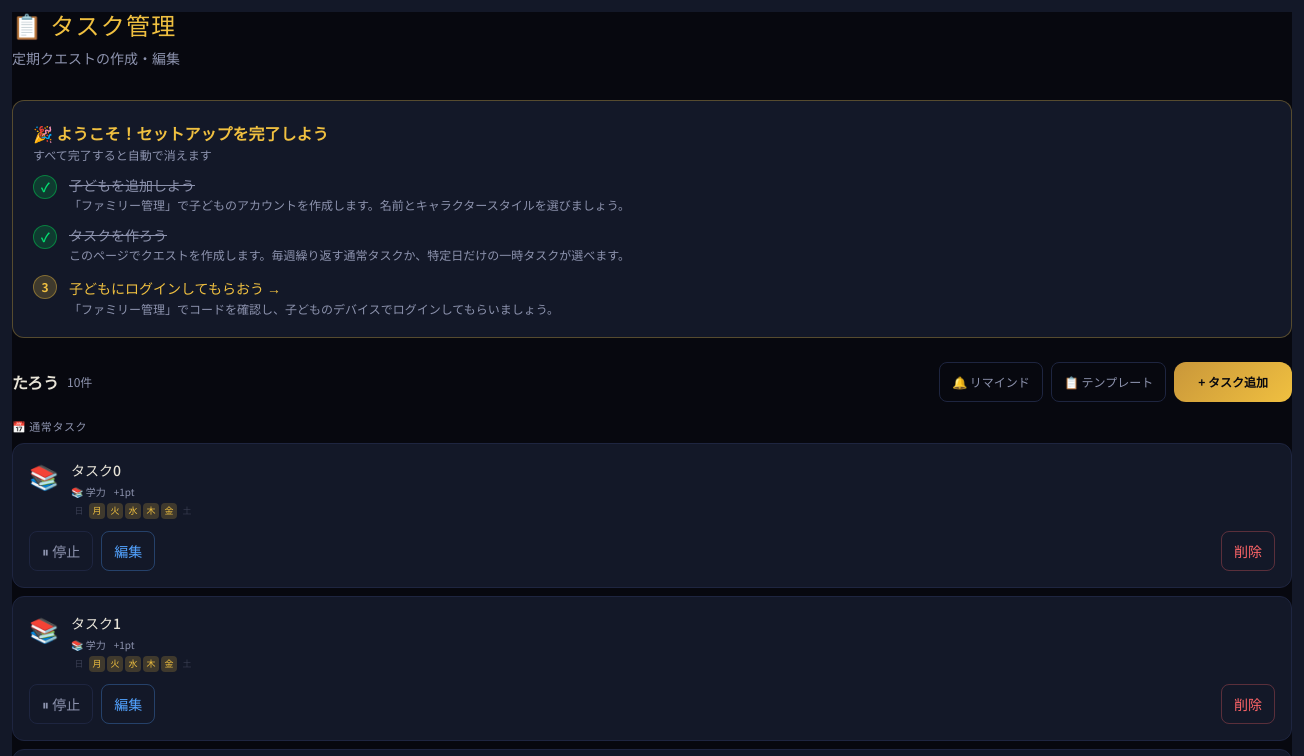
Test: 親 タスク管理ページ: 追加ボタンの preempt チェック (Issue #148) › 編集フォームは上限到達中でも開く (preempt 対象外)
Click the button "編集" below "タスク0" at (128, 550), box left=101, top=530, right=155, bottom=570
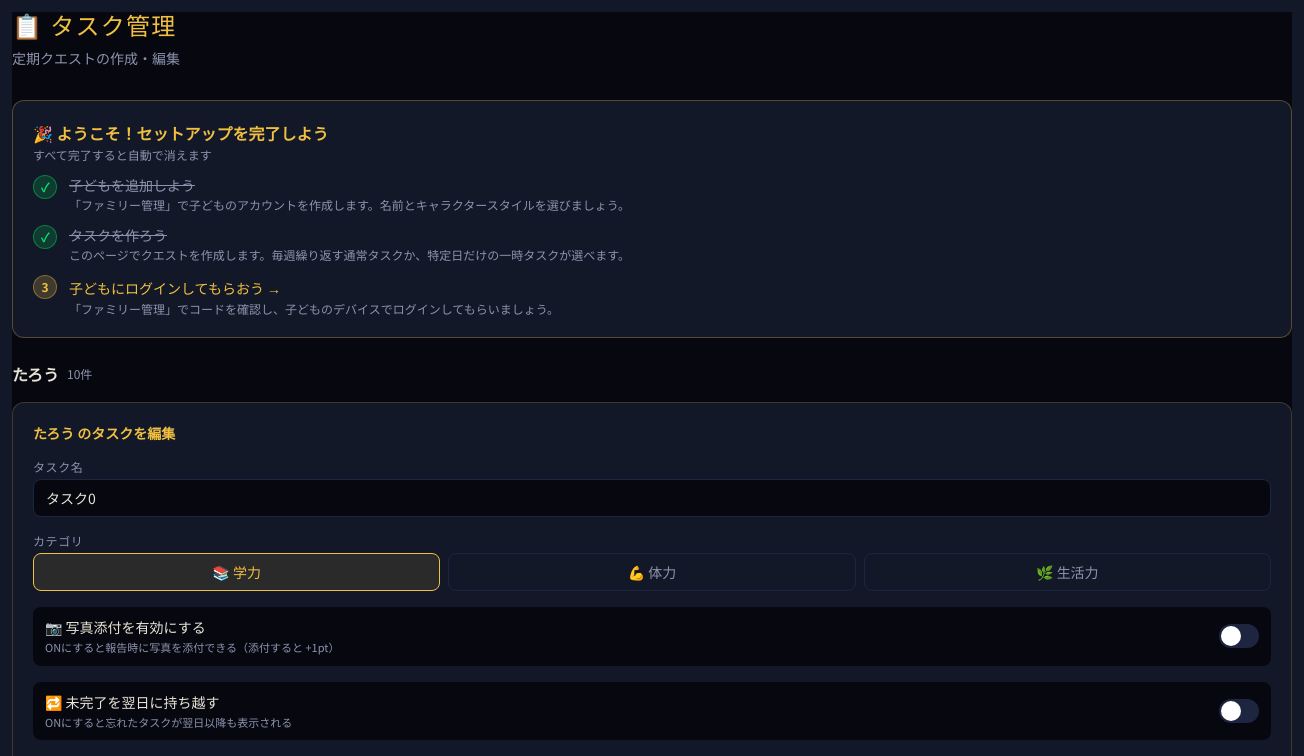
expect the field with placeholder "例: 算数ドリルをやる" is shown: met, box left=33, top=479, right=1271, bottom=517
